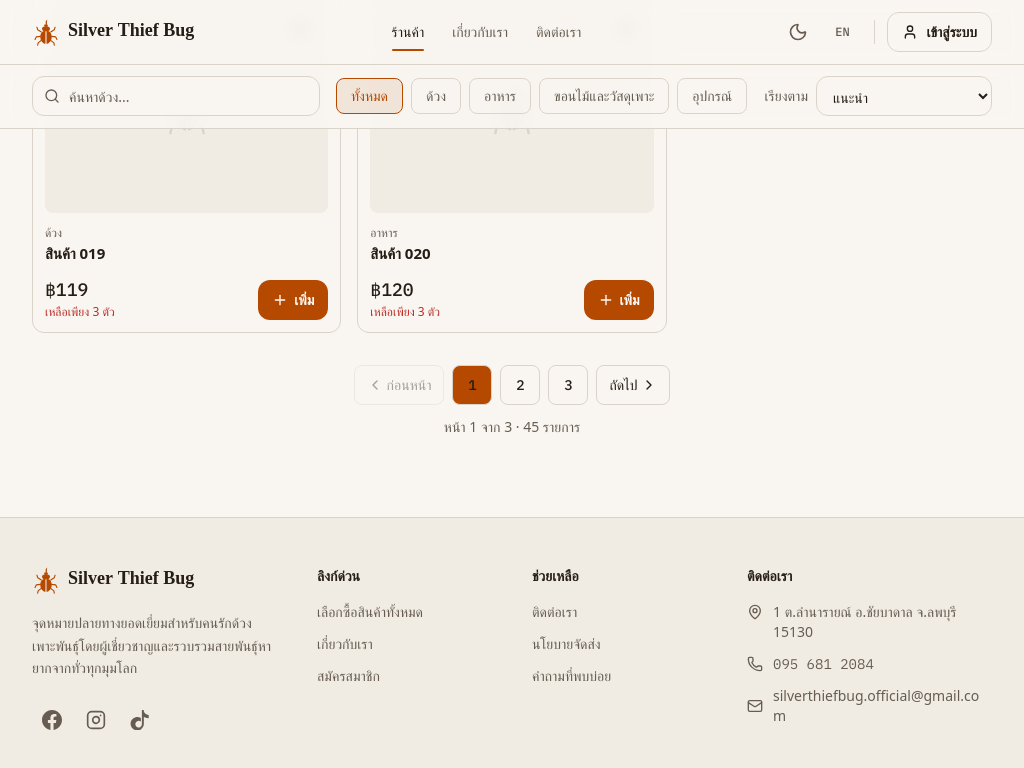
Test: the shop shows 20 products a page, with a pager that says where you are
(page scrolled)
expect the text "หน้า 1 จาก 3 · 45 รายการ" is shown: met, box [444, 417, 580, 437]
expect the button "ก่อนหน้า" is disabled: met, box [354, 365, 444, 405]
What coordinates should you click on to do the following:
click the button "ถัดไป"
I would click on:
 (634, 385)
Its box is [596, 365, 670, 405].
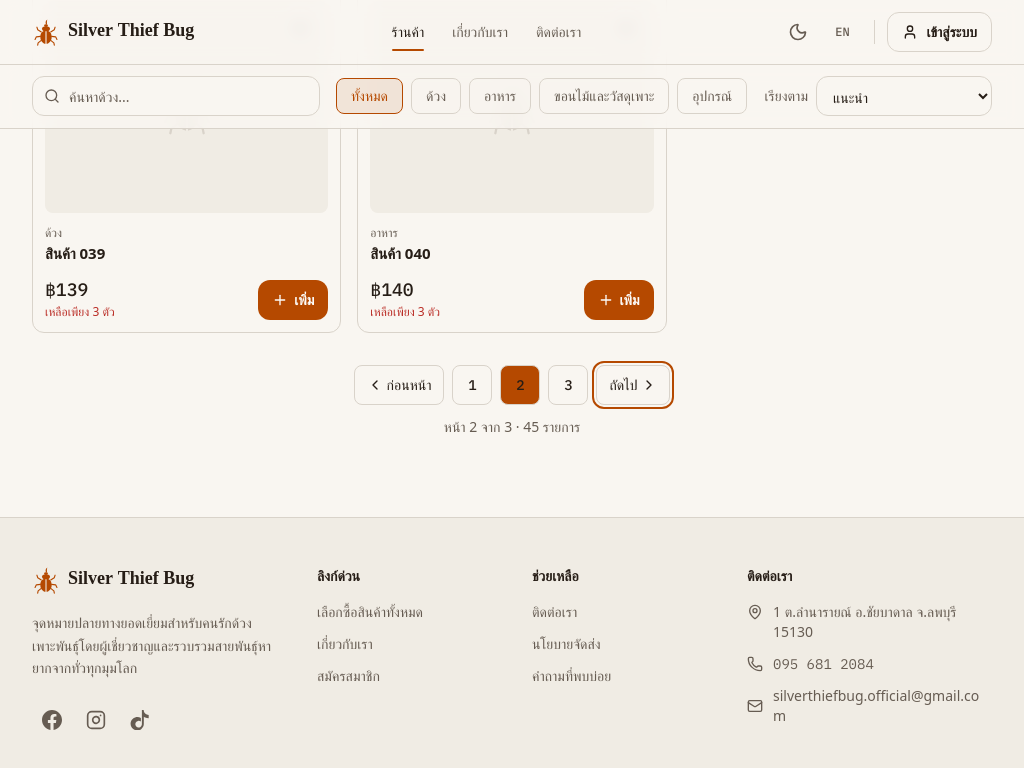
What coordinates should you click on to do the following:
click the button named "หน้า 3"
I would click on:
 (568, 385)
Its box is [548, 365, 588, 405].
(page scrolled)
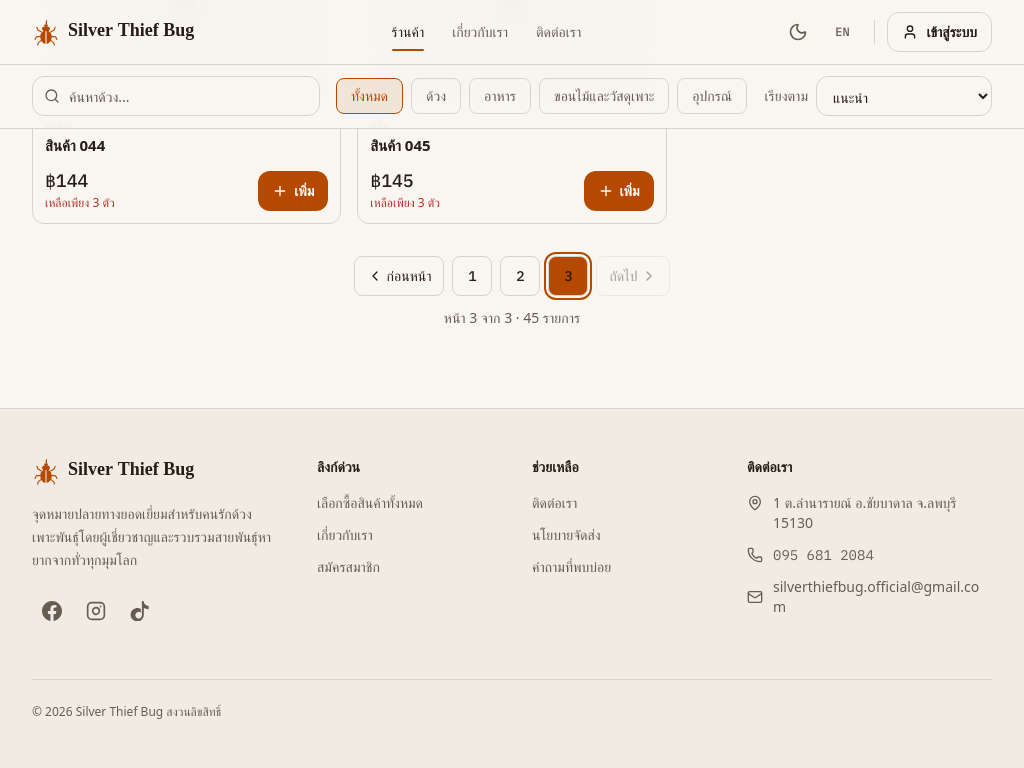
expect the button "ถัดไป" is disabled: met, box [596, 256, 670, 296]
